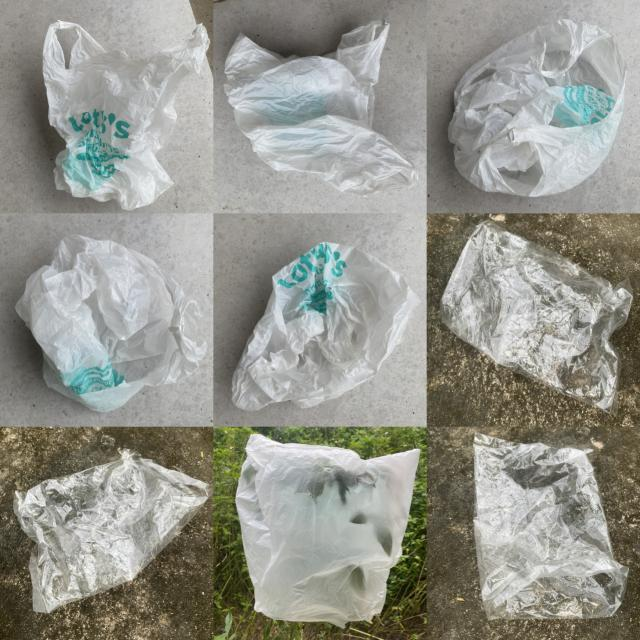Single-layer Plastic: (440, 221, 632, 412), (236, 434, 420, 627), (224, 19, 418, 195), (16, 235, 206, 411), (14, 450, 211, 612), (232, 242, 420, 410), (42, 21, 209, 209), (449, 20, 625, 196), (474, 434, 628, 619)
